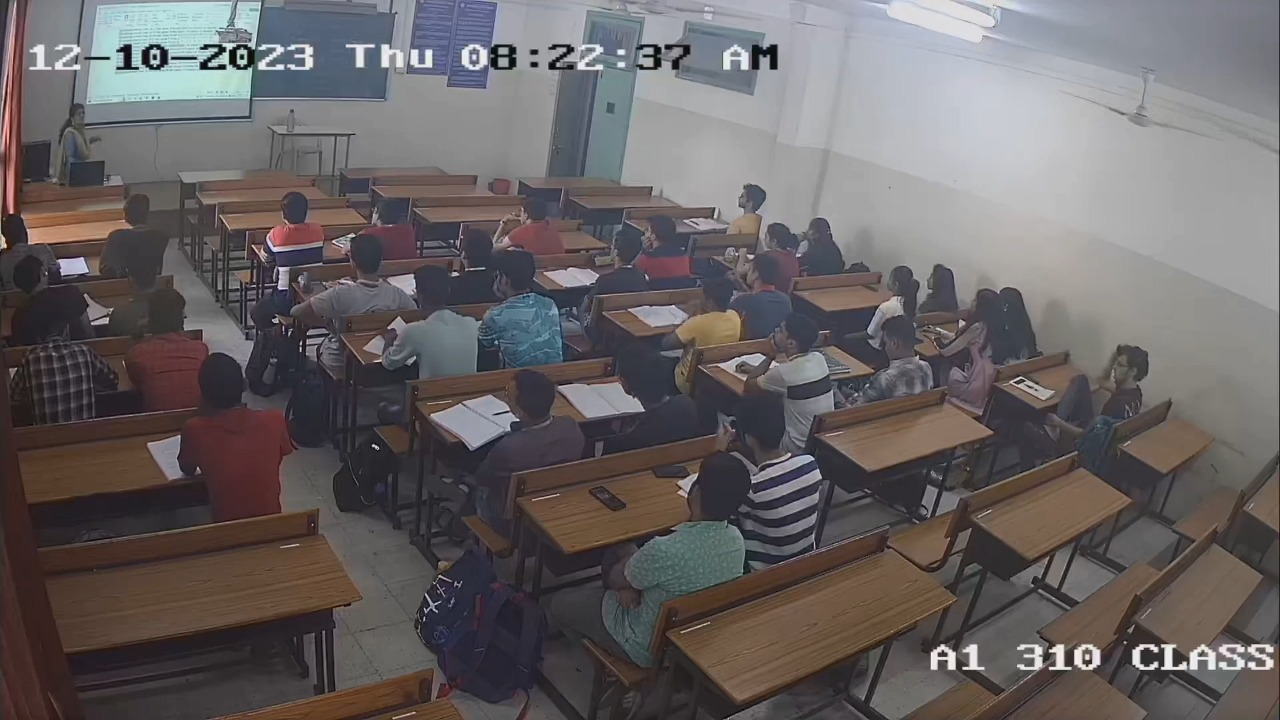cell-phones: (587, 484, 628, 513), (650, 462, 692, 480)
person: (633, 449, 754, 597), (729, 387, 825, 552)
